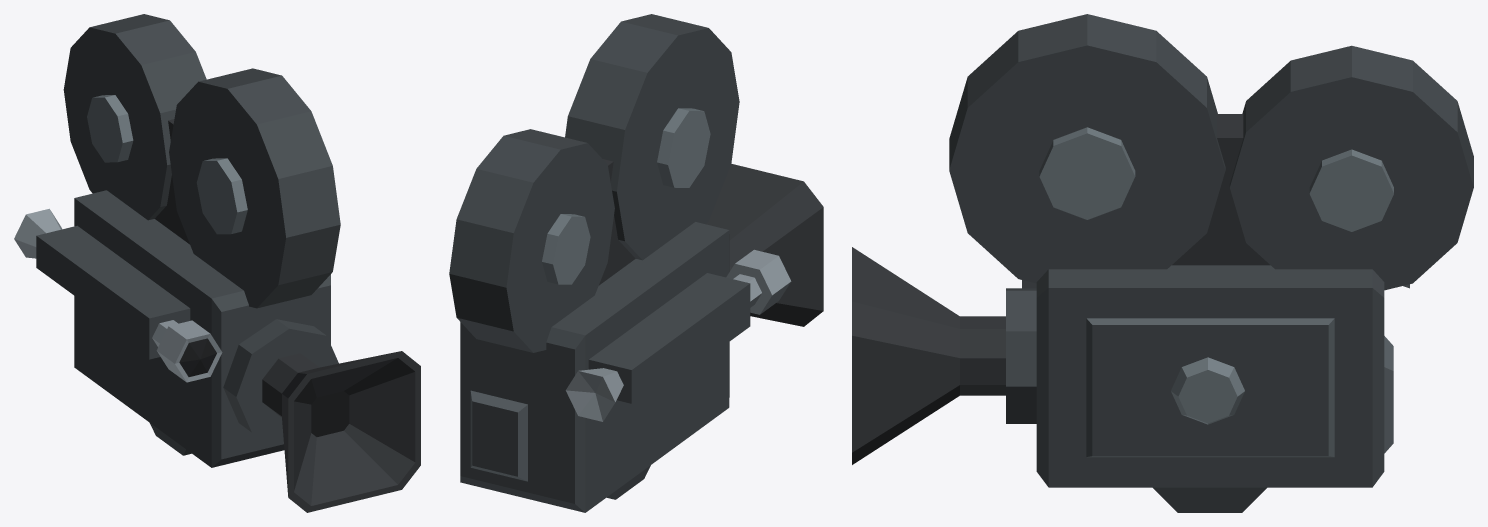
Rendered from SM_Icon_Camera_01.fbx.
The picture shows the model from 3 angles, left to right: view 1: azimuth 30°, elevation 25°; view 2: azimuth 150°, elevation 25°; view 3: azimuth 270°, elevation 25°; orthographic projection. The views are drawn at different scales.
Visible parts, largest first — view 1: SM_Icon_Camera_01; view 2: SM_Icon_Camera_01; view 3: SM_Icon_Camera_01.
Part boxes in pixels (box(x1,y1,x2,y2)): SM_Icon_Camera_01: box(14, 14, 420, 512); SM_Icon_Camera_01: box(449, 14, 823, 512); SM_Icon_Camera_01: box(852, 14, 1473, 512).
Bounding box in the file's own units: 24.2 × 49.96 × 60.66.
